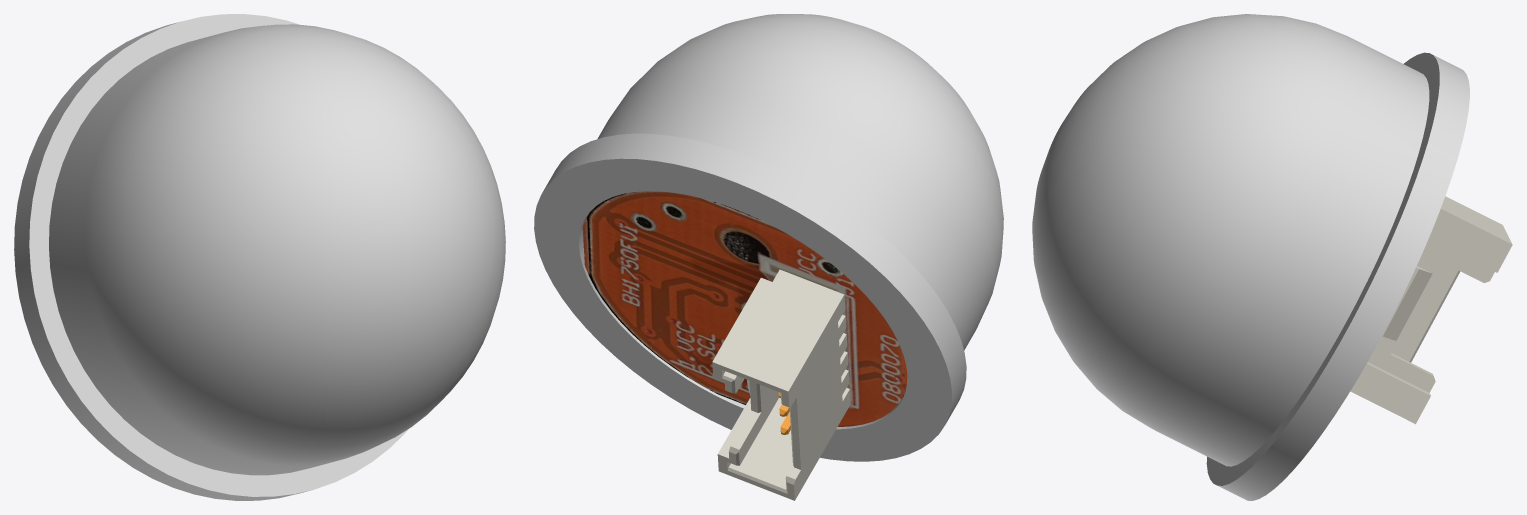
The picture shows the model from 3 angles, left to right: view 1: azimuth 30°, elevation 25°; view 2: azimuth 150°, elevation 25°; view 3: azimuth 270°, elevation 25°; orthographic projection. The views are drawn at different scales.
Visible parts, largest first — view 1: Circle.002; view 2: Circle.002, Cylinder.008, Pin Header Connector; view 3: Circle.002, Pin Header Connector.
Part boxes in pixels (<box>): Circle.002: <box>14,14,505,500</box>; Circle.002: <box>534,14,1003,461</box>; Cylinder.008: <box>582,191,907,426</box>; Pin Header Connector: <box>712,269,850,500</box>; Circle.002: <box>1032,14,1469,500</box>; Pin Header Connector: <box>1350,196,1512,424</box>.
Bounding box in the file's own units: 0.0263 × 0.0266 × 0.0263.
Materials: 4 (1 with a texture image).
